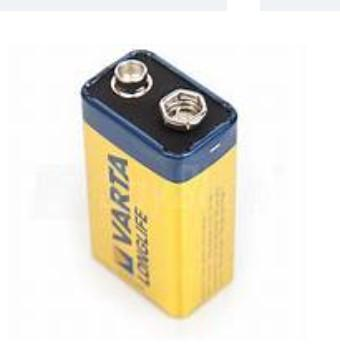9V Battery: (80, 50, 238, 320)
